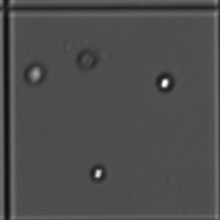Dead Cell: (74, 45, 102, 71)
Living Cell: (20, 60, 50, 86), (154, 71, 177, 94), (87, 163, 108, 182)
